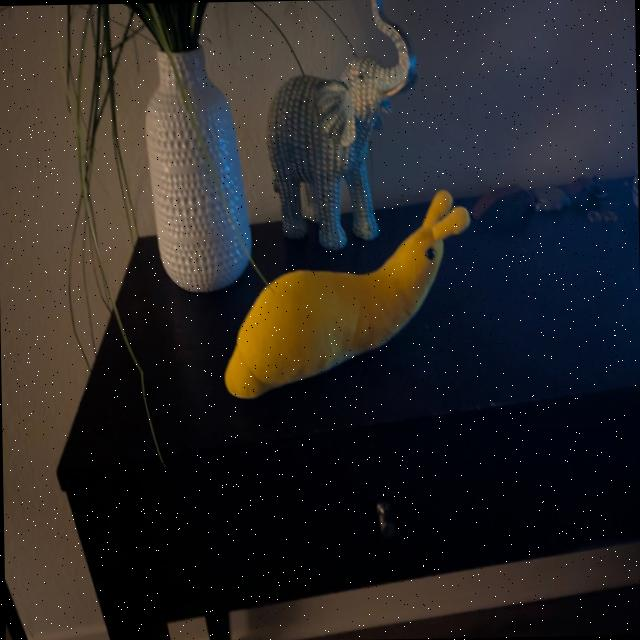banana-slug-toy: (210, 180, 480, 404)
